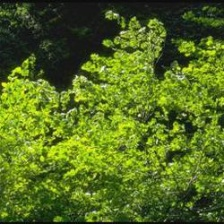neutral: (8, 11, 223, 223)
